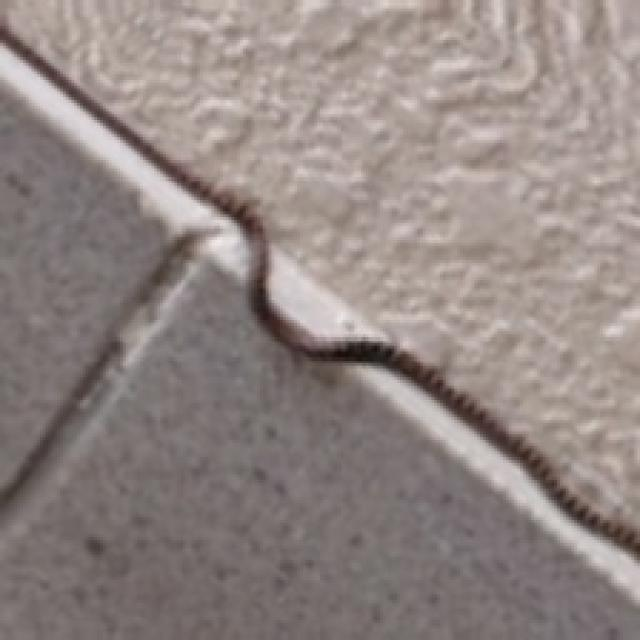paradise tree snake: (0, 0, 637, 520), (0, 263, 637, 637)
